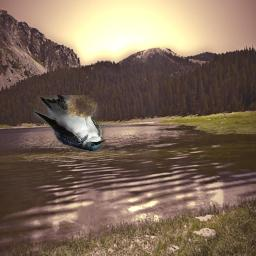Swallow: (33, 95, 106, 151)
